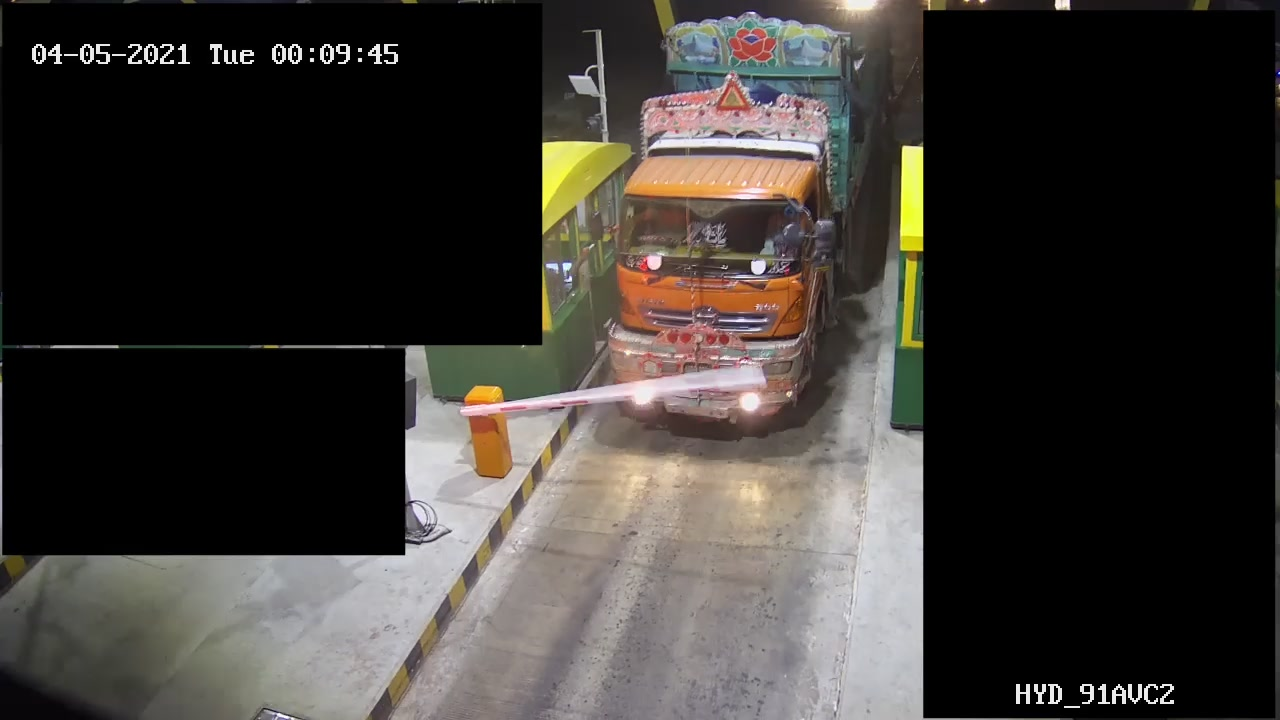F6: (602, 12, 898, 454)
